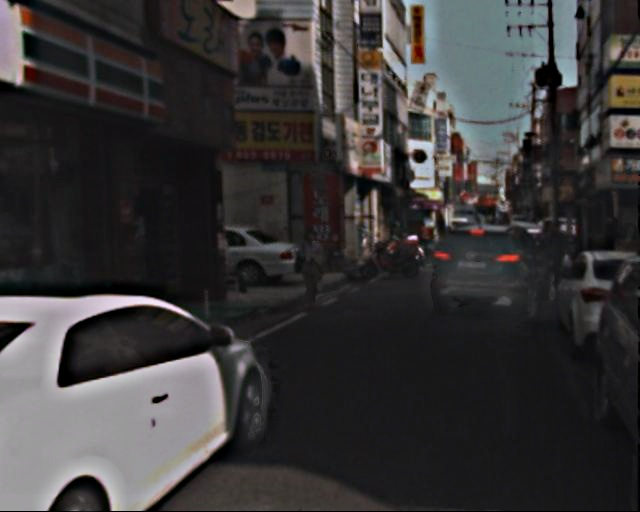person: (295, 227, 331, 315), (542, 220, 573, 296)
